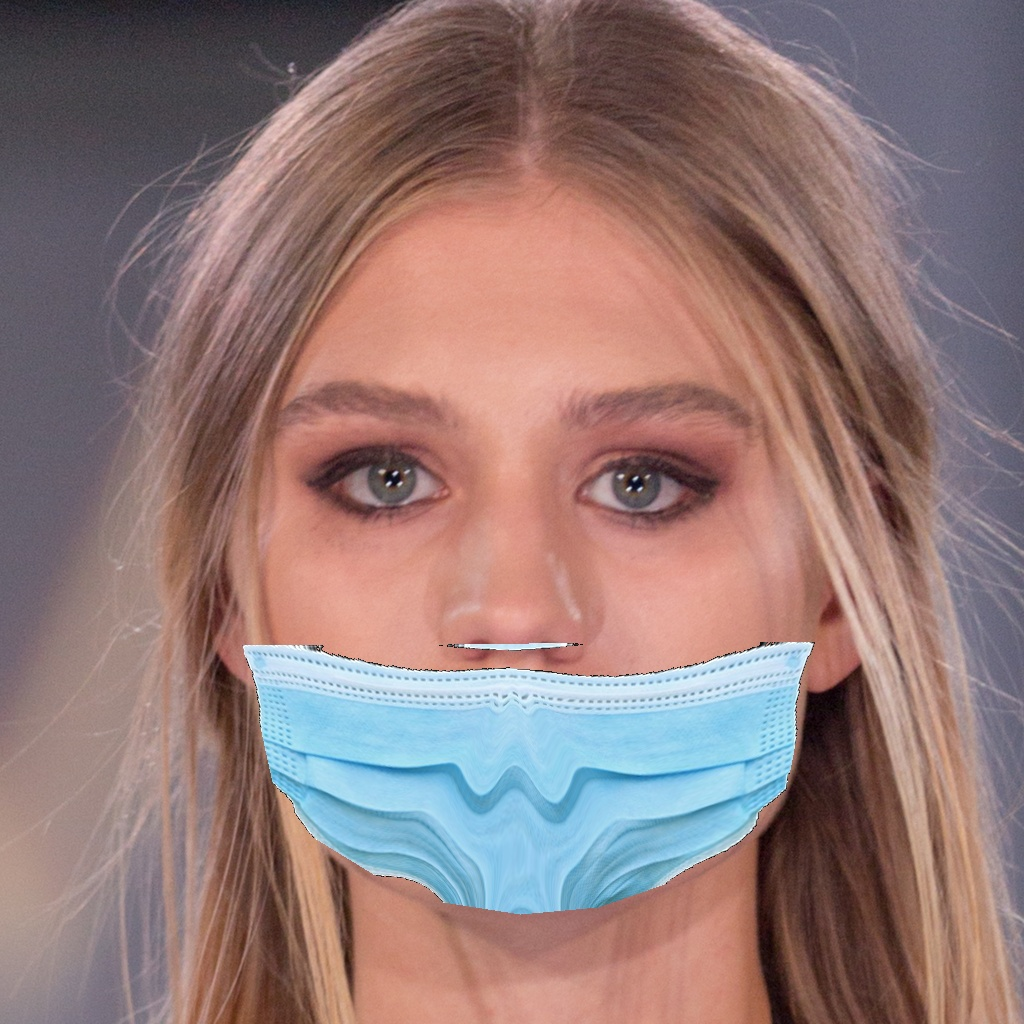mascarilla_mal_puesta: (222, 410, 887, 940)
